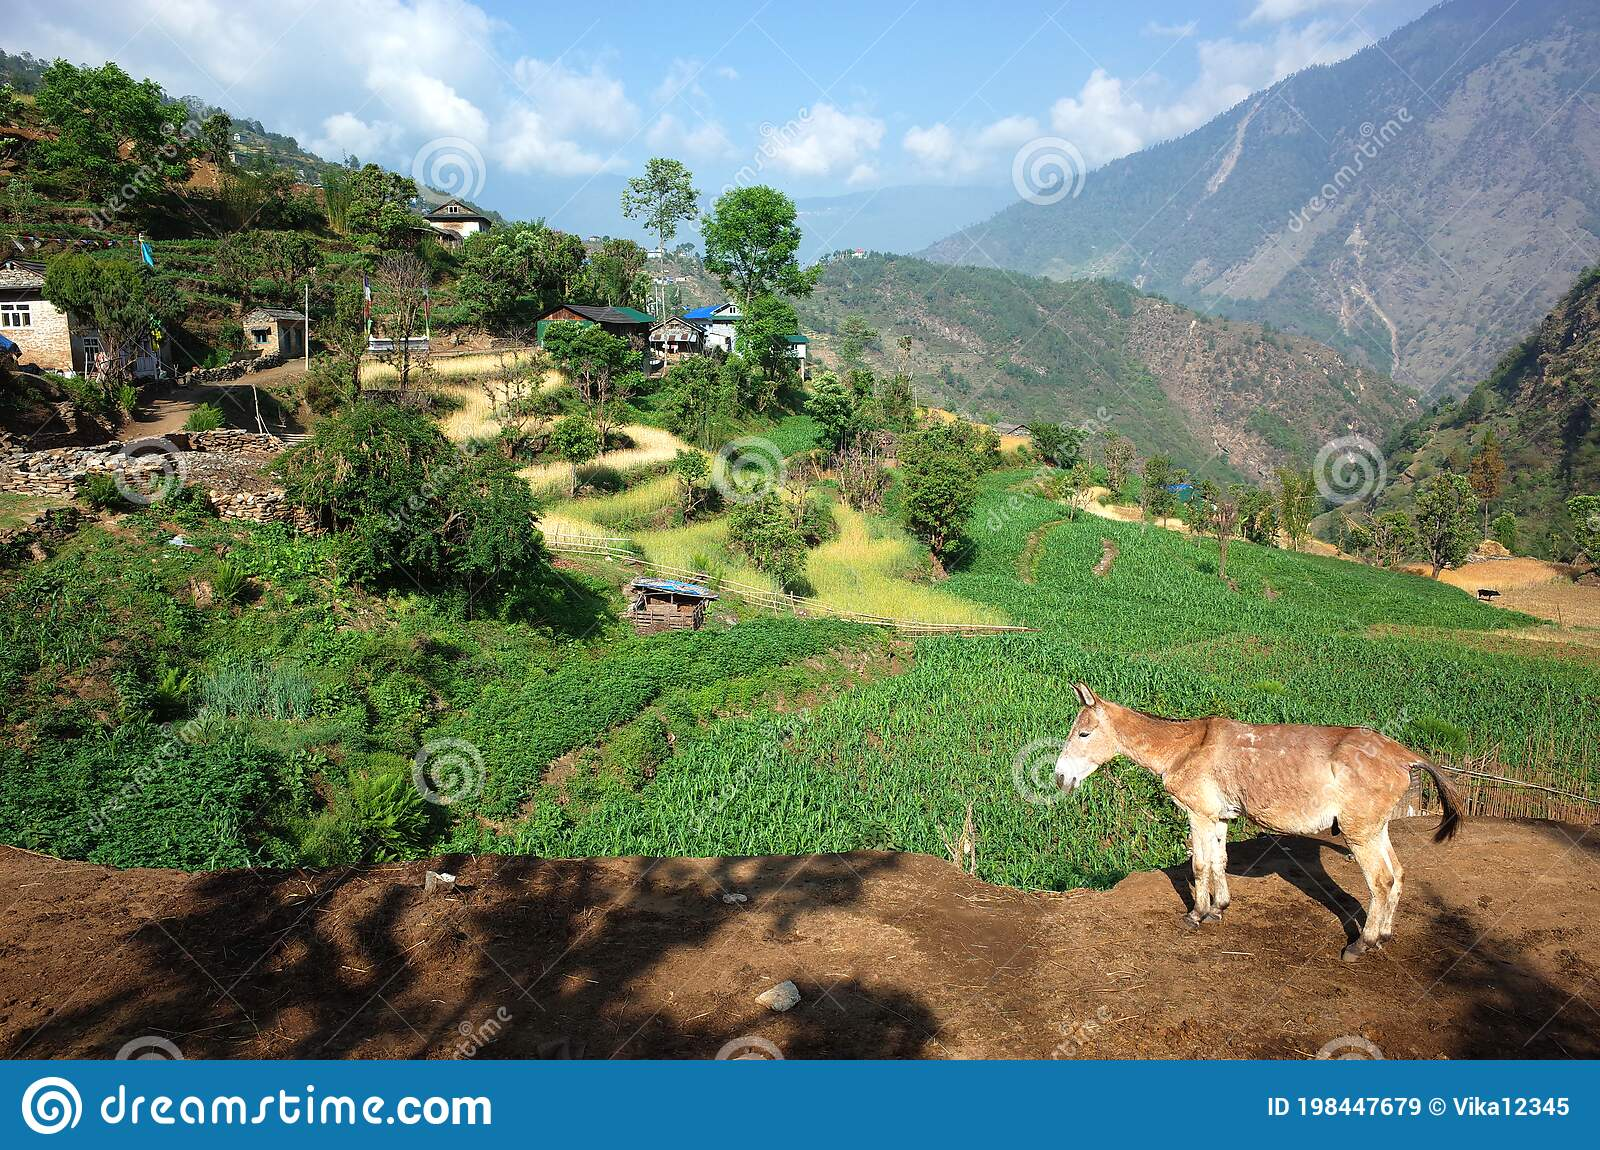equine: (1012, 659, 1489, 962)
